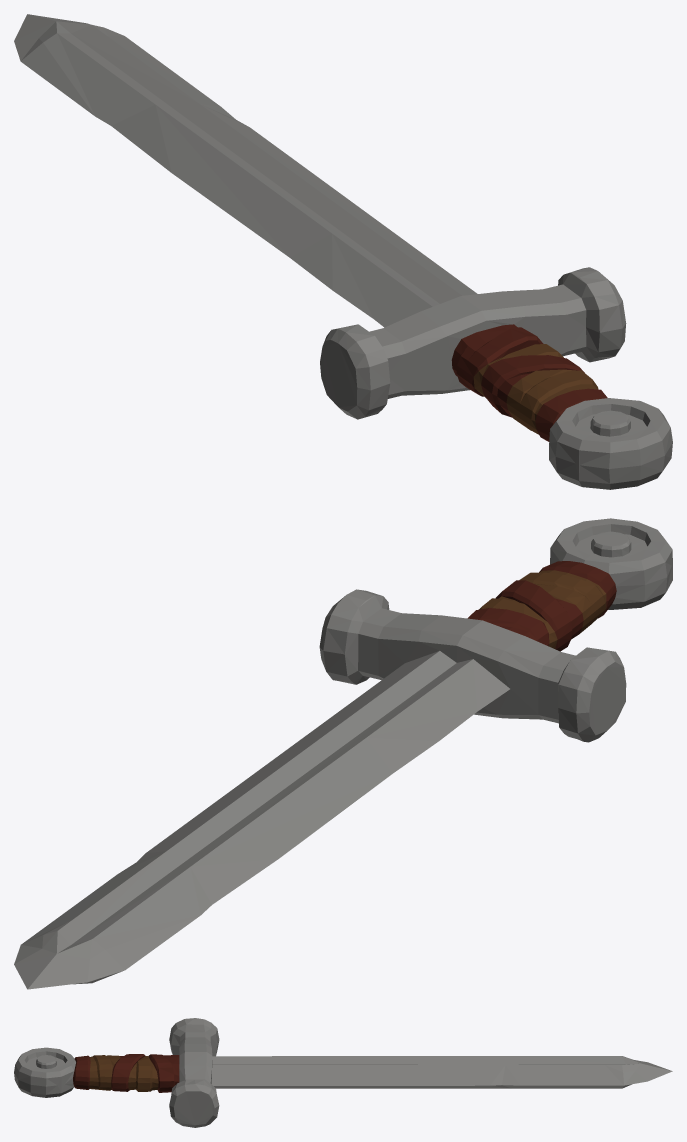
File: IronLongsword.fbx
3 views of the same model, one above another, from view 1: azimuth 30°, elevation 25°; view 2: azimuth 150°, elevation 25°; view 3: azimuth 270°, elevation 25° (orthographic). The views are drawn at different scales.
Parts seen in each view (by area): view 1: IronLongsword; view 2: IronLongsword; view 3: IronLongsword.
Part boxes in pixels (x1,y1,x2,y2): IronLongsword: [14, 14, 672, 489]; IronLongsword: [14, 518, 672, 989]; IronLongsword: [14, 1018, 672, 1127].
Bounding box in the file's own units: 0.3863 × 1.53 × 0.1124.
